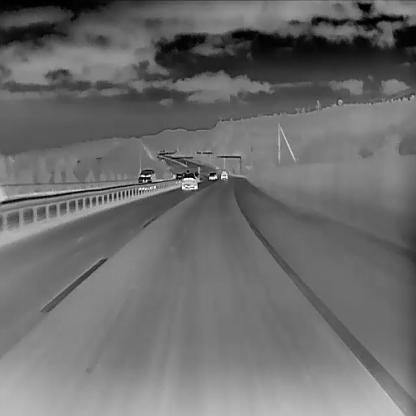car: (137, 168, 157, 191), (180, 172, 198, 190), (173, 172, 184, 183), (219, 170, 228, 180), (206, 171, 216, 179)
